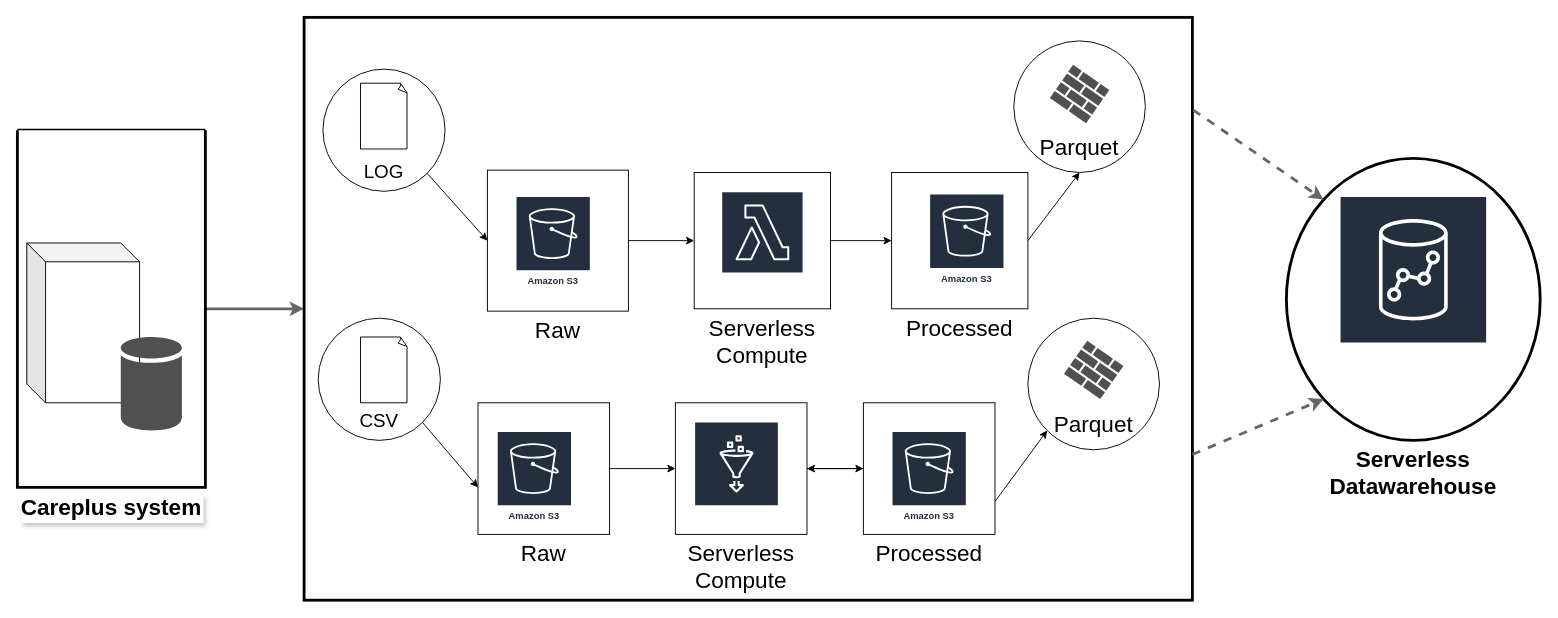
Some shapes in this 1558 by 618 pixel diagram are drawn without their labels. The centre of each missing label's shape, as x and y in pixels:
"Amazon Redshift" belongs at point 1413,301.
"AWS Glue" belongs at point 736,473.
"AWS Lambda" belongs at point 762,242.
"MySQL" belongs at point 150,384.
